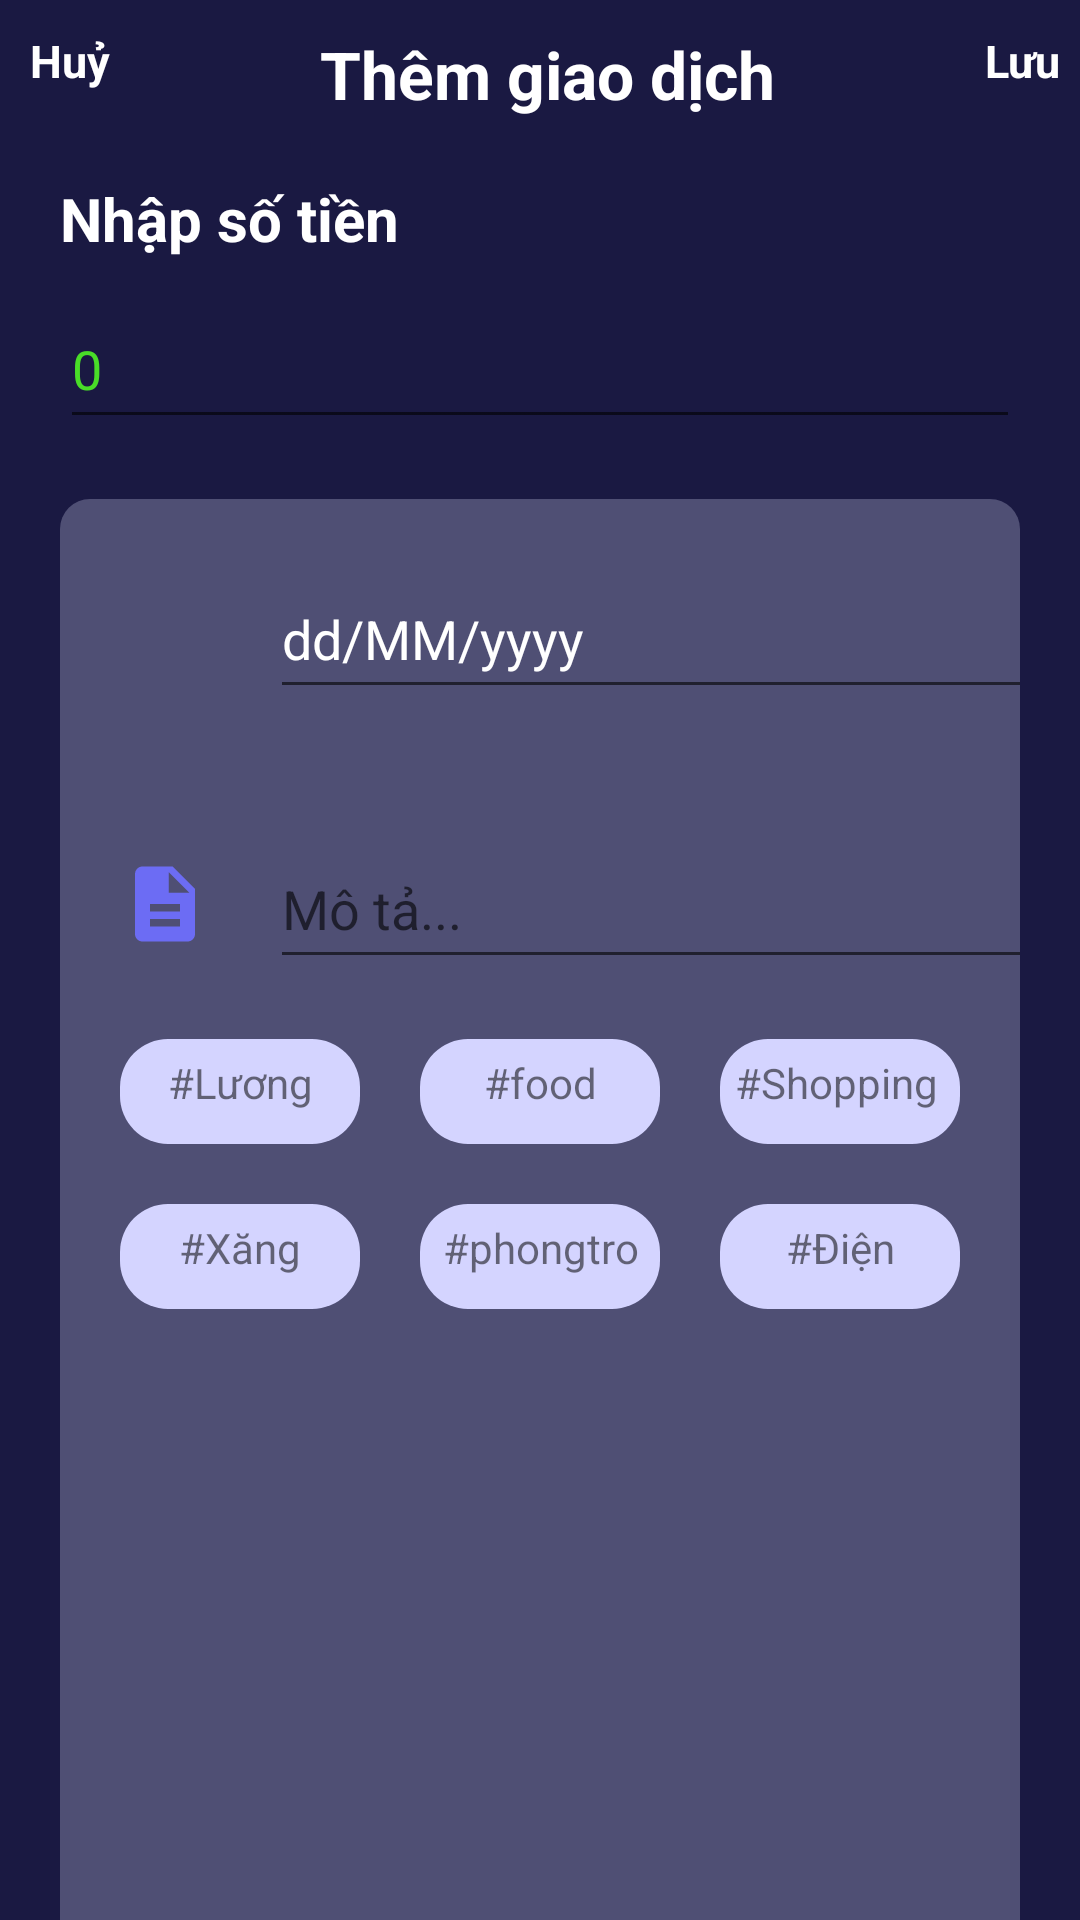

Screen size 1080 × 1920. Icon name, then its box in pixels as (x1, y1, x2, y2):
description: (135, 866, 195, 942)
